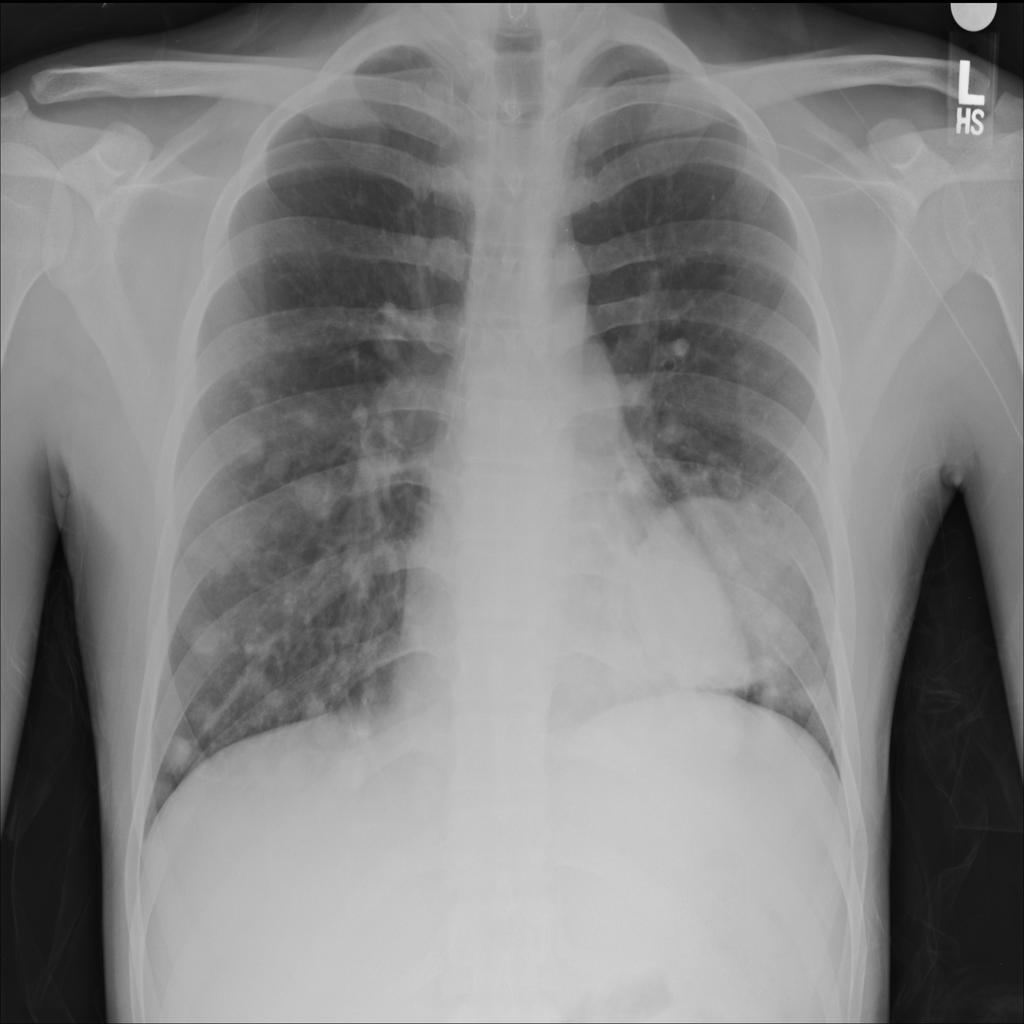nodule: (594, 485, 832, 711), (284, 456, 350, 536), (411, 221, 480, 297), (209, 406, 279, 480), (317, 721, 381, 801), (175, 602, 241, 670), (298, 679, 344, 739), (185, 688, 234, 742), (654, 322, 703, 374), (159, 728, 206, 782), (782, 675, 831, 726), (286, 391, 332, 445), (335, 171, 385, 220)
